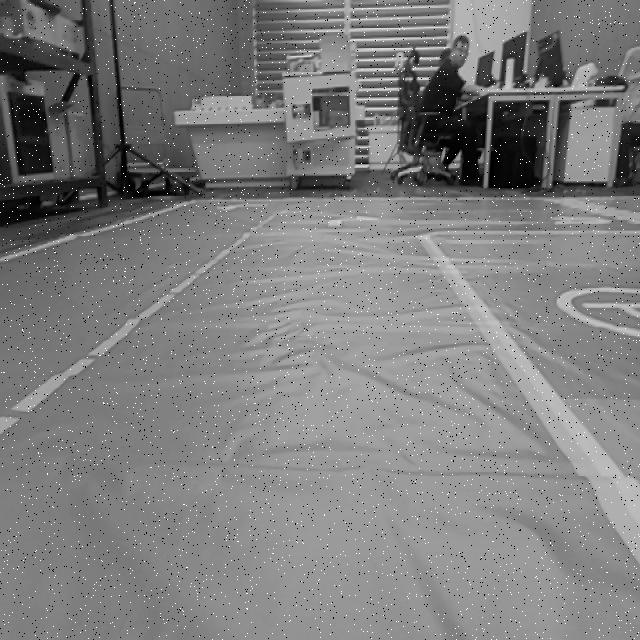left_lane: (0, 214, 279, 436)
right_lane: (420, 239, 640, 565)
